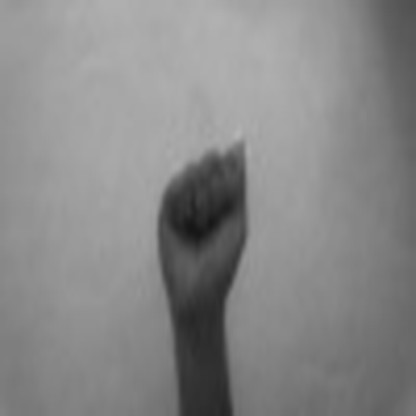a: (143, 111, 253, 303)
